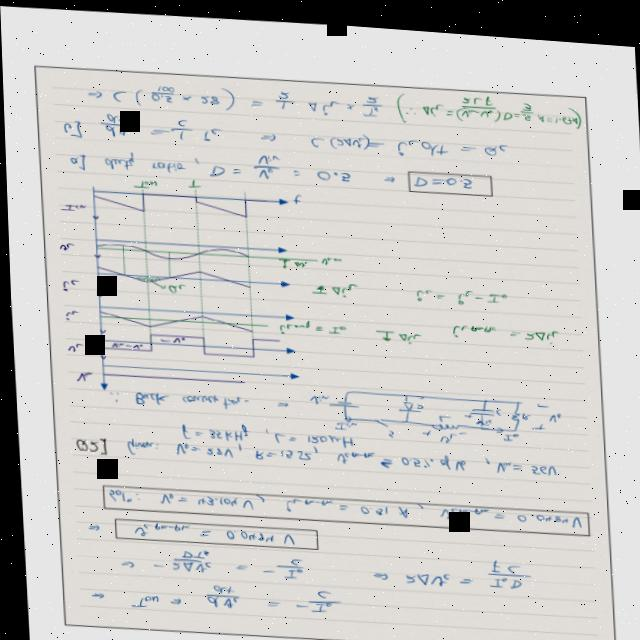capacitor: (462, 398, 499, 413)
diode: (390, 391, 418, 410)
inductor: (428, 411, 459, 430)
resistor: (501, 397, 524, 418)
source: (323, 391, 357, 408)
switch: (366, 406, 394, 423)
